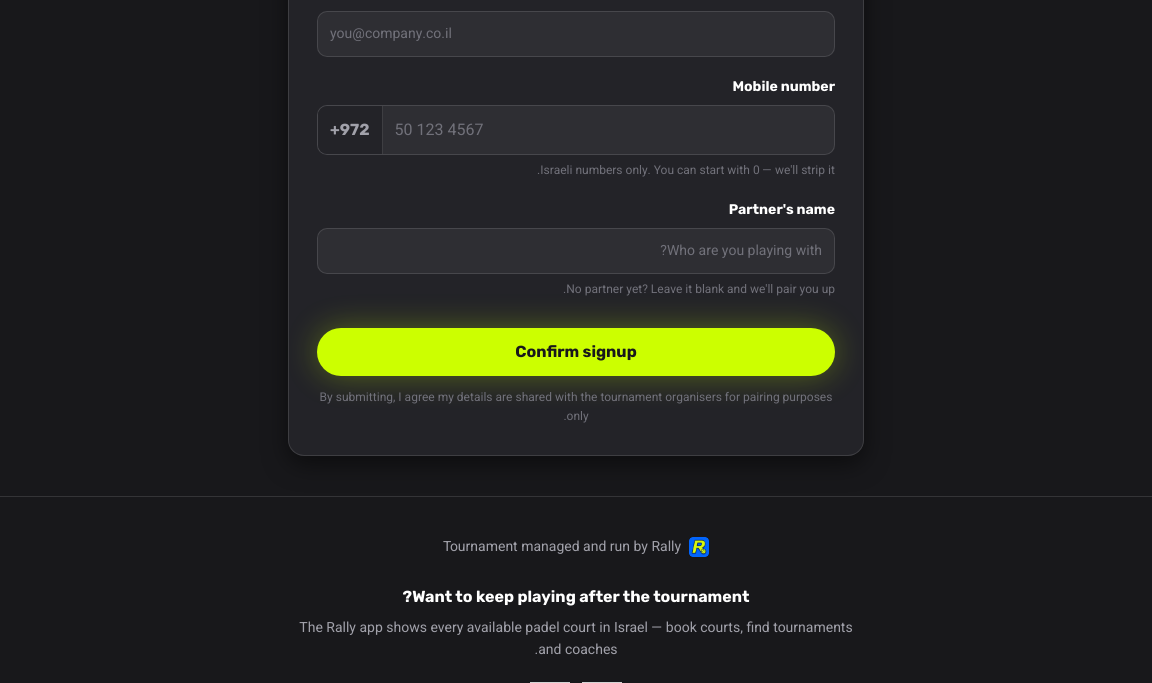
Test: CorporateSignupPage › blocks submission and flags every empty required field
(page scrolled)
Click the button "Confirm signup" at (576, 352), box [317, 328, 835, 376]
(page scrolled)
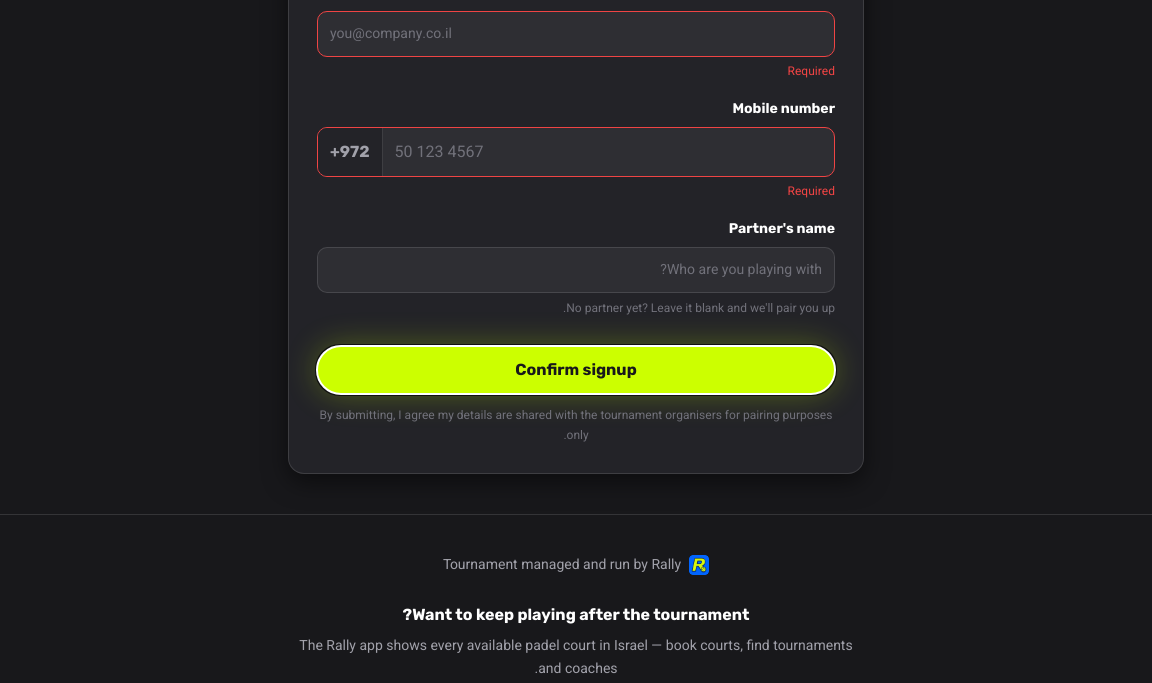
Expected: the text "Required" is shown 3 times
